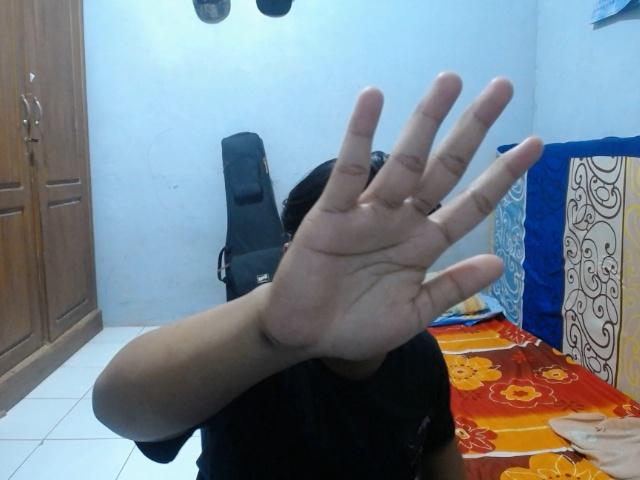Release: (258, 63, 549, 370)
